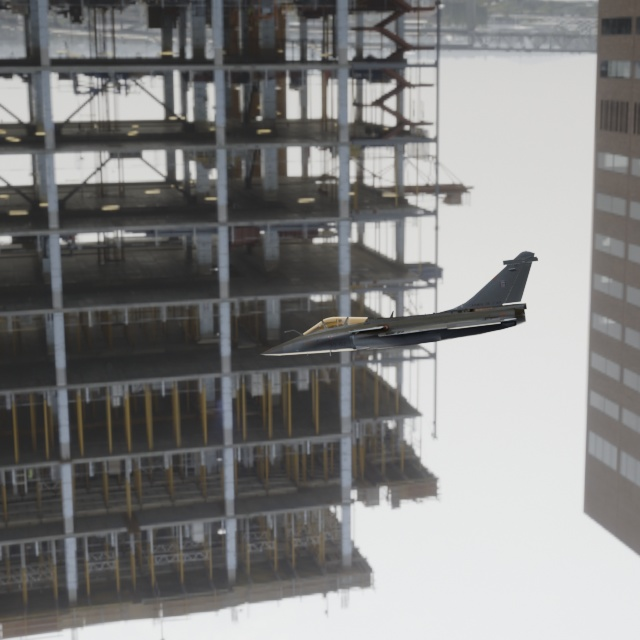dassault_rafale: (237, 241, 552, 364)
